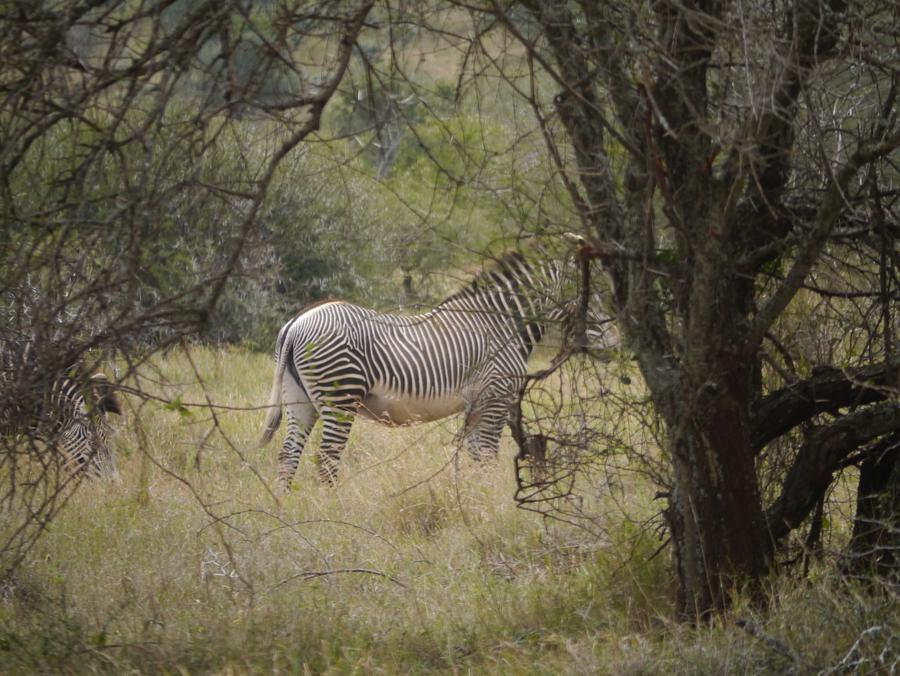zebra_grevys: (279, 295, 509, 407)
